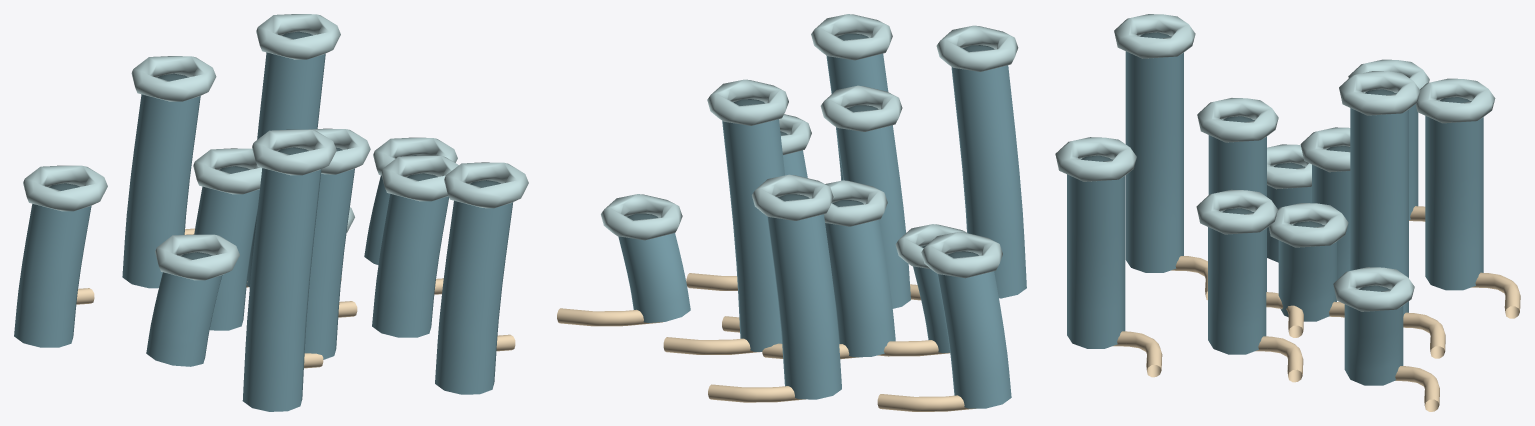
File: bio_thermal_colony_06_far.glb
The picture shows the model from 3 angles, left to right: view 1: azimuth 30°, elevation 25°; view 2: azimuth 150°, elevation 25°; view 3: azimuth 270°, elevation 25°; orthographic projection. The views are drawn at different scales.
Visible parts, largest first — view 1: Chimney biofilm.007, Chimney biofilm.010, Chimney biofilm.006, Chimney biofilm.009, Chimney biofilm.005, Chimney biofilm.002, Chimney biofilm.004, Chimney biofilm.001, Chimney biofilm.003, Open vent rim.004, Open vent rim.009, Open vent rim.010 (+8 smaller); view 2: Chimney biofilm.007, Chimney biofilm.006, Chimney biofilm.003, Chimney biofilm.009, Chimney biofilm.001, Chimney biofilm.002, Chimney biofilm.008, Open vent rim.007, Open vent rim.002, Open vent rim.010, Open vent rim.006, Open vent rim.008 (+14 smaller); view 3: Chimney biofilm.007, Chimney biofilm.006, Chimney biofilm.010, Chimney biofilm.003, Chimney biofilm.005, Chimney biofilm.008, Chimney biofilm, Chimney biofilm.002, Open vent rim.010, Open vent rim.005, Open vent rim.007, Open vent rim.008 (+17 smaller).
Boxes of the visible parts, bbox=[...] form: Chimney biofilm.007: bbox=[242, 168, 321, 411]; Chimney biofilm.010: bbox=[435, 200, 513, 394]; Chimney biofilm.006: bbox=[122, 94, 200, 288]; Chimney biofilm.009: bbox=[14, 204, 91, 347]; Chimney biofilm.005: bbox=[372, 194, 448, 337]; Chimney biofilm.002: bbox=[304, 168, 354, 359]; Chimney biofilm.004: bbox=[146, 272, 222, 366]; Chimney biofilm.001: bbox=[194, 186, 259, 330]; Chimney biofilm.003: bbox=[247, 52, 325, 287]; Open vent rim.004: bbox=[155, 234, 239, 280]; Open vent rim.009: bbox=[23, 165, 107, 211]; Open vent rim.010: bbox=[444, 162, 528, 208]; Chimney biofilm.007: bbox=[951, 48, 1026, 298]; Chimney biofilm.006: bbox=[767, 197, 841, 399]; Chimney biofilm.003: bbox=[722, 102, 784, 351]; Chimney biofilm.009: bbox=[937, 251, 1011, 408]; Chimney biofilm.001: bbox=[825, 219, 895, 357]; Chimney biofilm.002: bbox=[836, 108, 910, 308]; Chimney biofilm.008: bbox=[618, 233, 690, 322]; Open vent rim.007: bbox=[936, 25, 1018, 71]; Open vent rim.002: bbox=[820, 85, 902, 131]; Open vent rim.010: bbox=[811, 14, 892, 60]; Open vent rim.006: bbox=[752, 174, 833, 220]; Open vent rim.008: bbox=[601, 194, 682, 240]; Chimney biofilm.007: bbox=[1125, 36, 1183, 272]; Chimney biofilm.006: bbox=[1425, 101, 1483, 290]; Chimney biofilm.010: bbox=[1067, 159, 1125, 348]; Chimney biofilm.003: bbox=[1350, 93, 1408, 316]; Chimney biofilm.005: bbox=[1208, 212, 1266, 354]; Chimney biofilm.008: bbox=[1344, 289, 1403, 385]; Chimney biofilm: bbox=[1278, 225, 1336, 321]; Chimney biofilm.002: bbox=[1208, 120, 1266, 291]; Open vent rim.010: bbox=[1055, 137, 1136, 181]; Open vent rim.005: bbox=[1196, 189, 1277, 234]; Open vent rim.007: bbox=[1114, 14, 1195, 58]; Open vent rim.008: bbox=[1333, 267, 1414, 311].
Size of the model in its own units: 1.68 by 0.9503 by 1.59.
